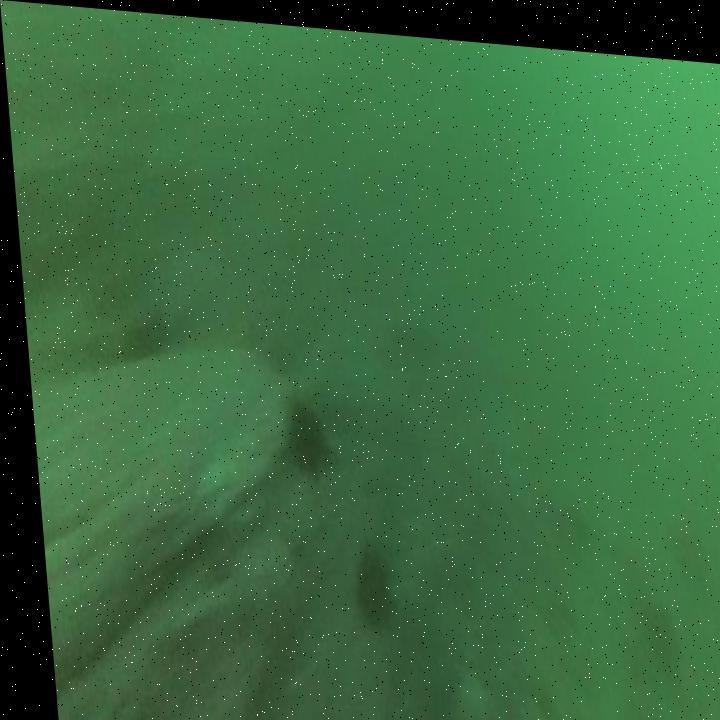echinus: (339, 525, 391, 634), (275, 391, 328, 480)
